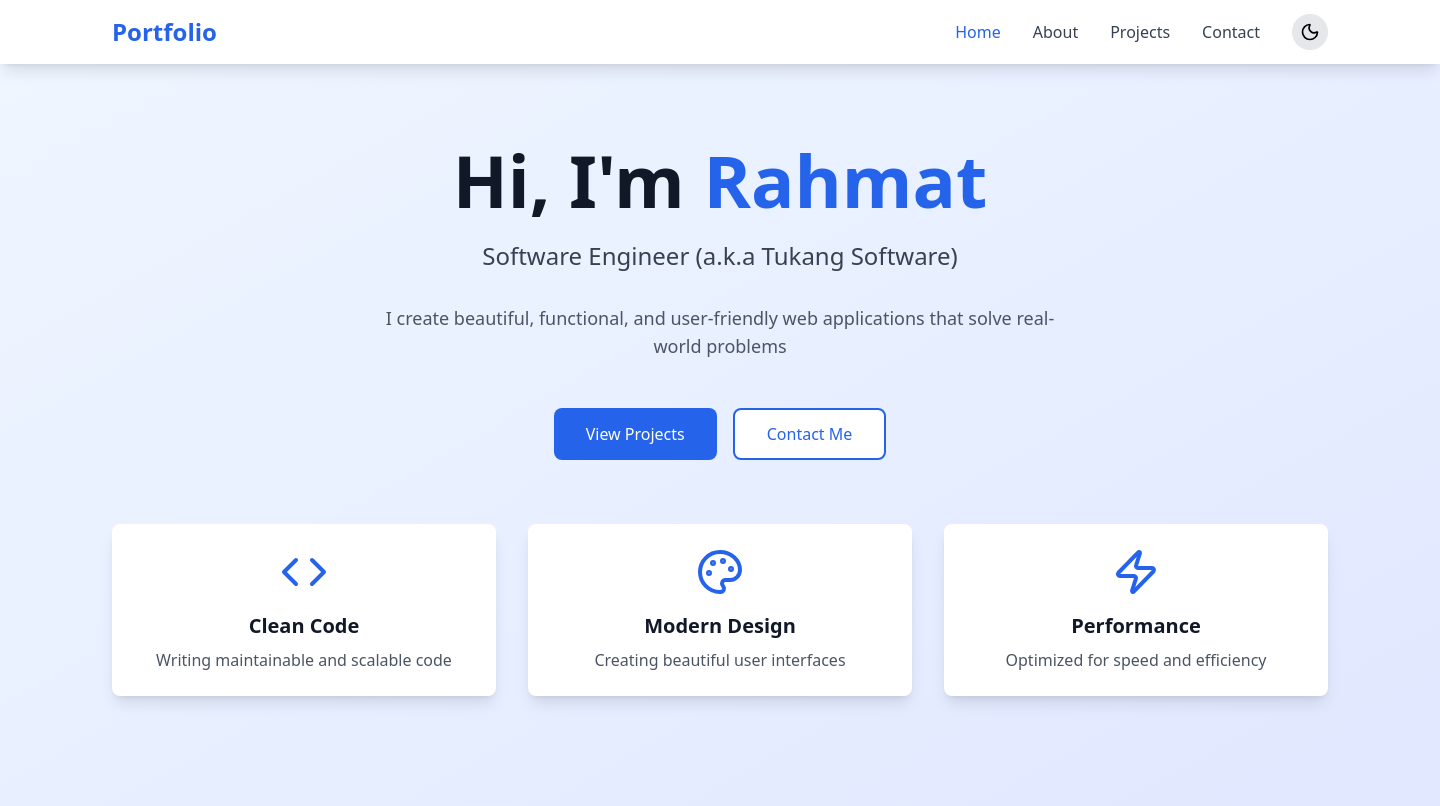
Scenario: Portfolio App Tests › navigation changes page
Click the button "about" at (1056, 32), box x1=1033 y1=20 x2=1078 y2=44
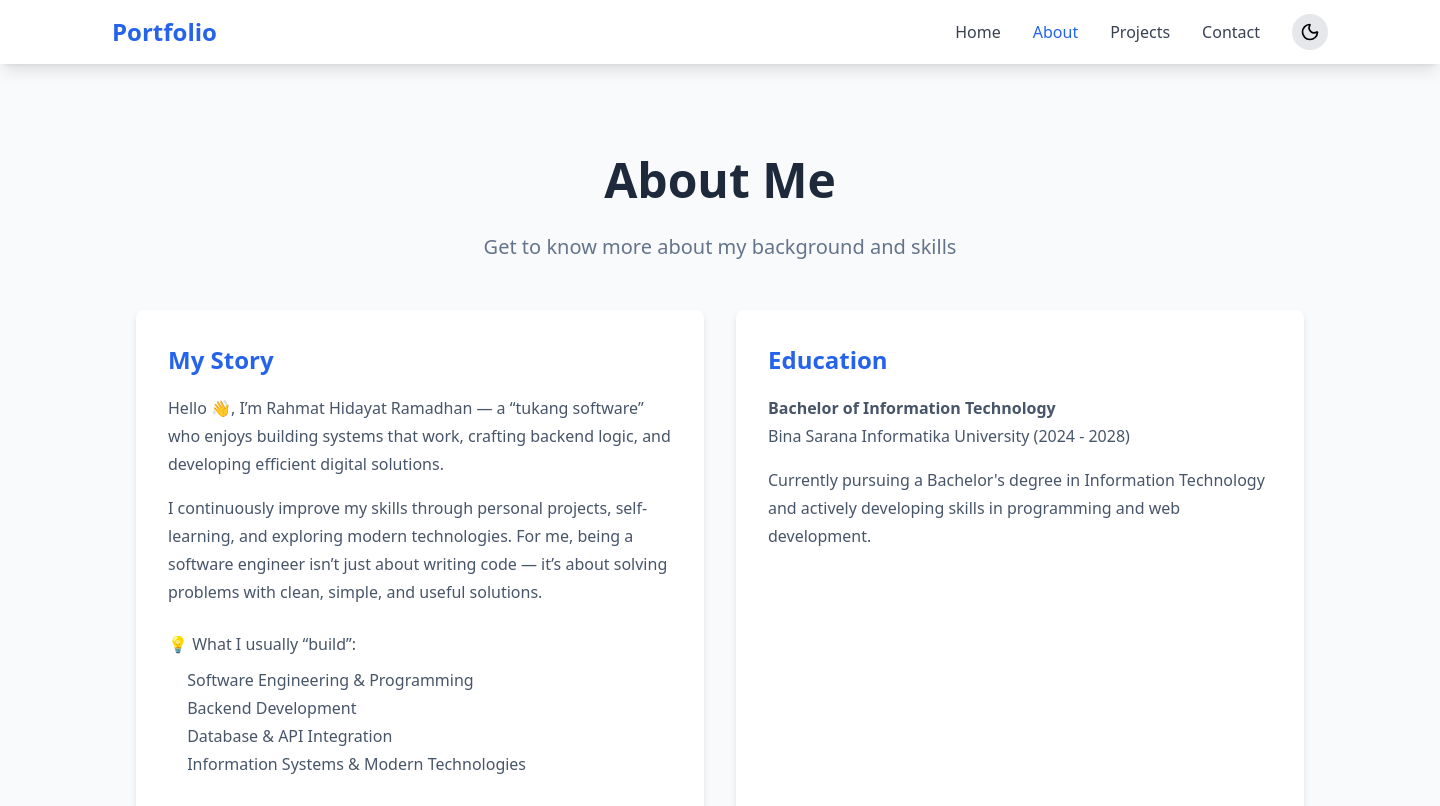
expect the heading "About Me" is shown: met, box x1=604 y1=147 x2=836 y2=212
